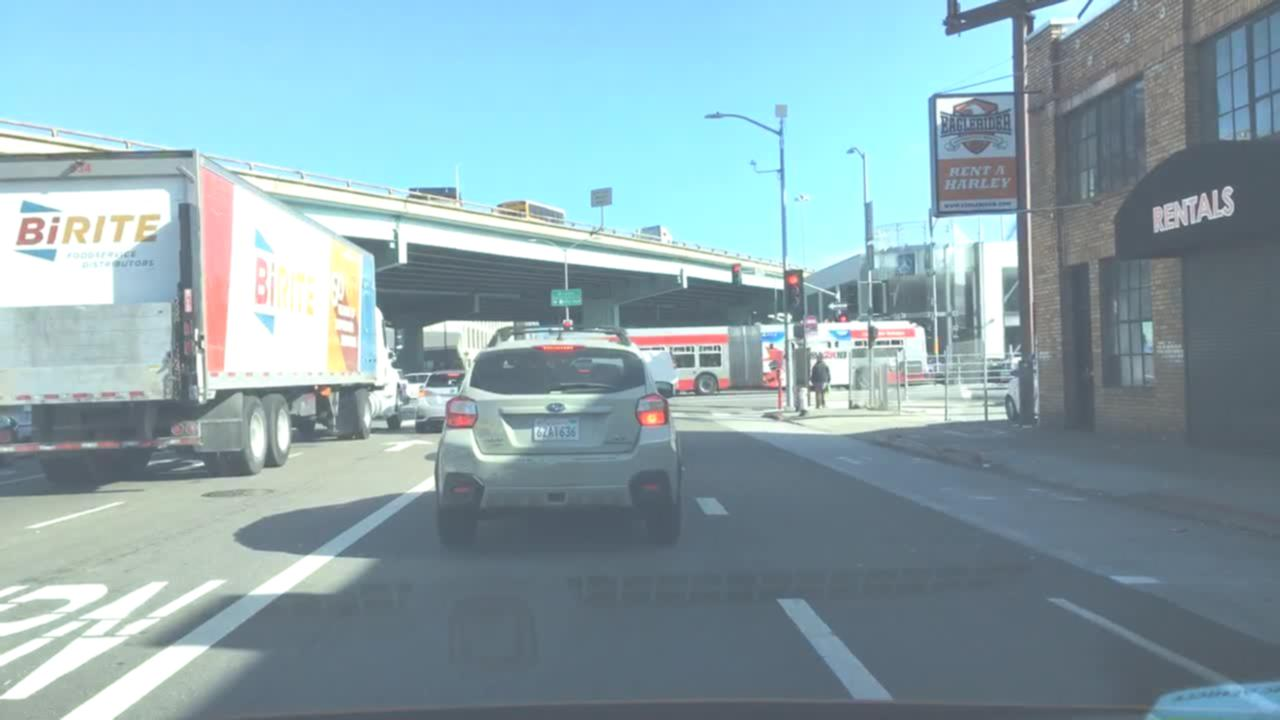subaru: (544, 399, 570, 419)
